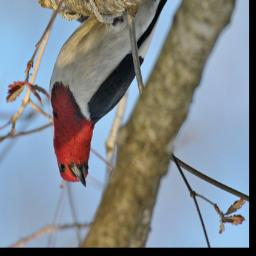Woodpecker: (43, 0, 185, 199)
